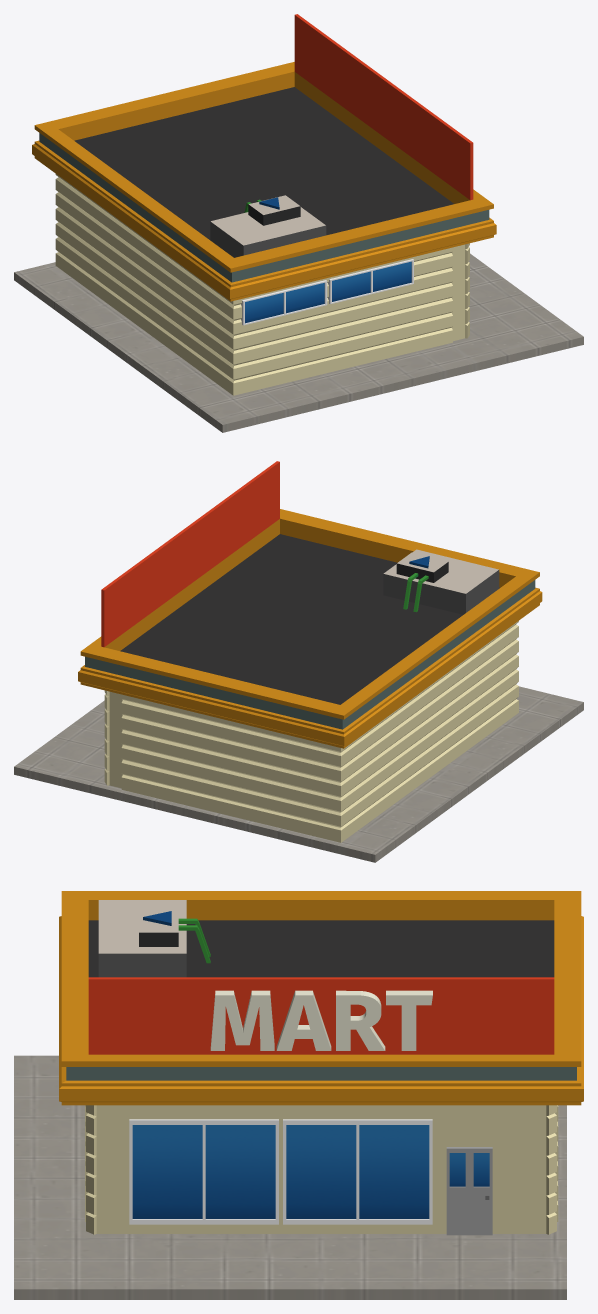
The model's file is Market_S_01.fbx.
3 renders of one model, top to bottom at view 1: azimuth 30°, elevation 25°; view 2: azimuth 150°, elevation 25°; view 3: azimuth 270°, elevation 25°, orthographic. The views are drawn at different scales.
Parts seen in each view (by area): view 1: Market_S_01; view 2: Market_S_01; view 3: Market_S_01.
Part boxes in pixels (x1,y1,x2,y2): Market_S_01: [14, 14, 583, 432]; Market_S_01: [14, 461, 583, 862]; Market_S_01: [14, 891, 583, 1299].
Bounding box in the file's own units: 2400 × 1280 × 2474.
